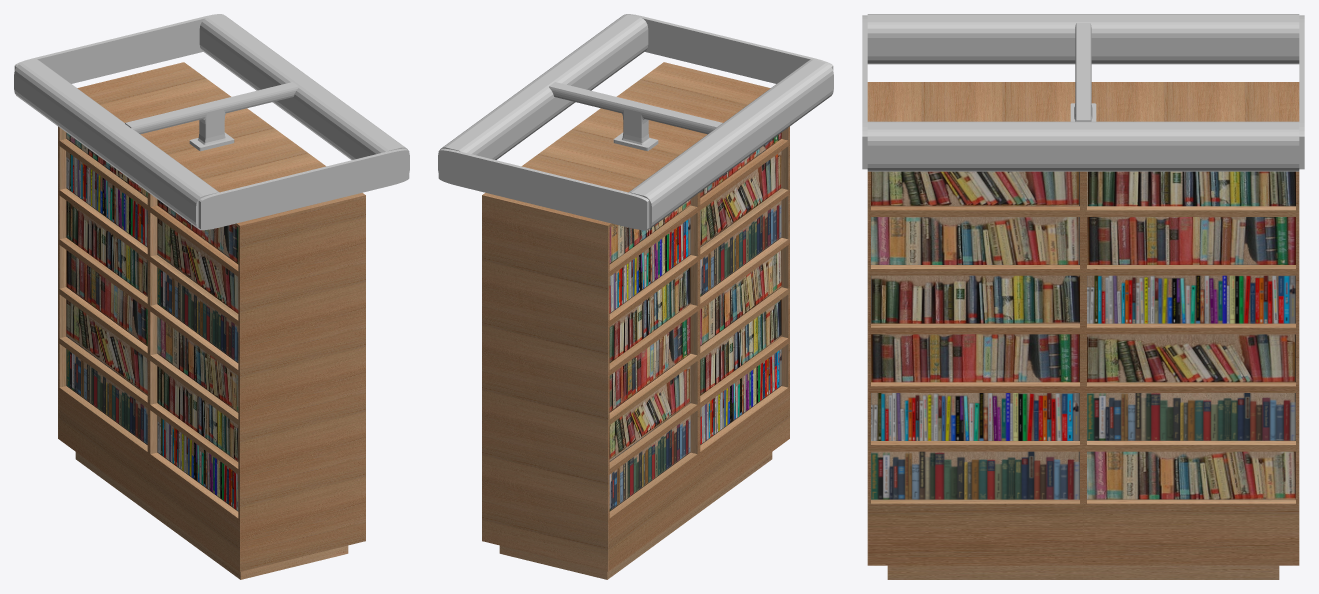
File: Shelf6x2Full.fbx
The picture shows the model from 3 angles, left to right: view 1: azimuth 30°, elevation 25°; view 2: azimuth 150°, elevation 25°; view 3: azimuth 270°, elevation 25°; orthographic projection. The views are drawn at different scales.
Parts seen in each view (by area): view 1: Shelf6x2, Shelf6x2Lamp; view 2: Shelf6x2, Shelf6x2Lamp; view 3: Shelf6x2, Shelf6x2Lamp.
Part boxes in pixels (x1,y1,x2,y2): Shelf6x2: [58, 62, 365, 579]; Shelf6x2Lamp: [14, 14, 409, 230]; Shelf6x2: [482, 62, 789, 579]; Shelf6x2Lamp: [438, 14, 833, 230]; Shelf6x2: [867, 82, 1299, 579]; Shelf6x2Lamp: [862, 14, 1304, 171].
Bounding box in the file's own units: 272 × 488 × 410.
